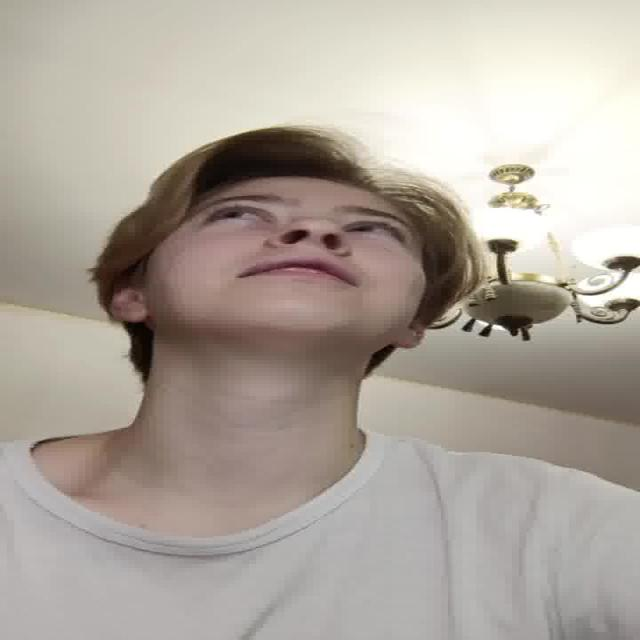earlobe: (392, 331, 422, 351), (116, 306, 150, 323)
eye: (204, 205, 280, 227), (347, 220, 407, 241)
nose: (273, 240, 348, 258)
wholeear: (112, 280, 149, 322)
